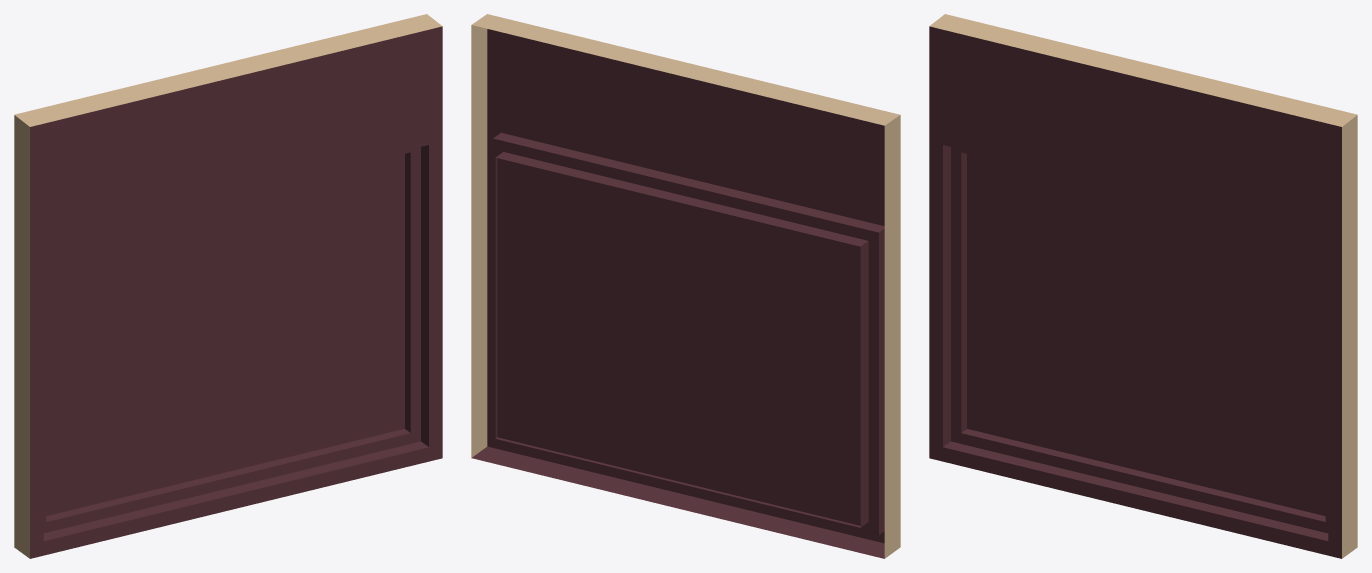
Rendered from house-wall-window-portal-3x3m.fbx.
3 views of the same model, side by side, from view 1: azimuth 30°, elevation 25°; view 2: azimuth 150°, elevation 25°; view 3: azimuth 330°, elevation 25° (orthographic).
Parts seen in each view (by area): view 1: house-wall-window-portal-3x3m; view 2: house-wall-window-portal-3x3m; view 3: house-wall-window-portal-3x3m.
Boxes of the visible parts, x1,y1,x2,y2 form: house-wall-window-portal-3x3m: (14,14,442,558); house-wall-window-portal-3x3m: (471,14,900,558); house-wall-window-portal-3x3m: (929,14,1357,558).
Size of the model in its own units: 3 by 3.01 by 0.2.
